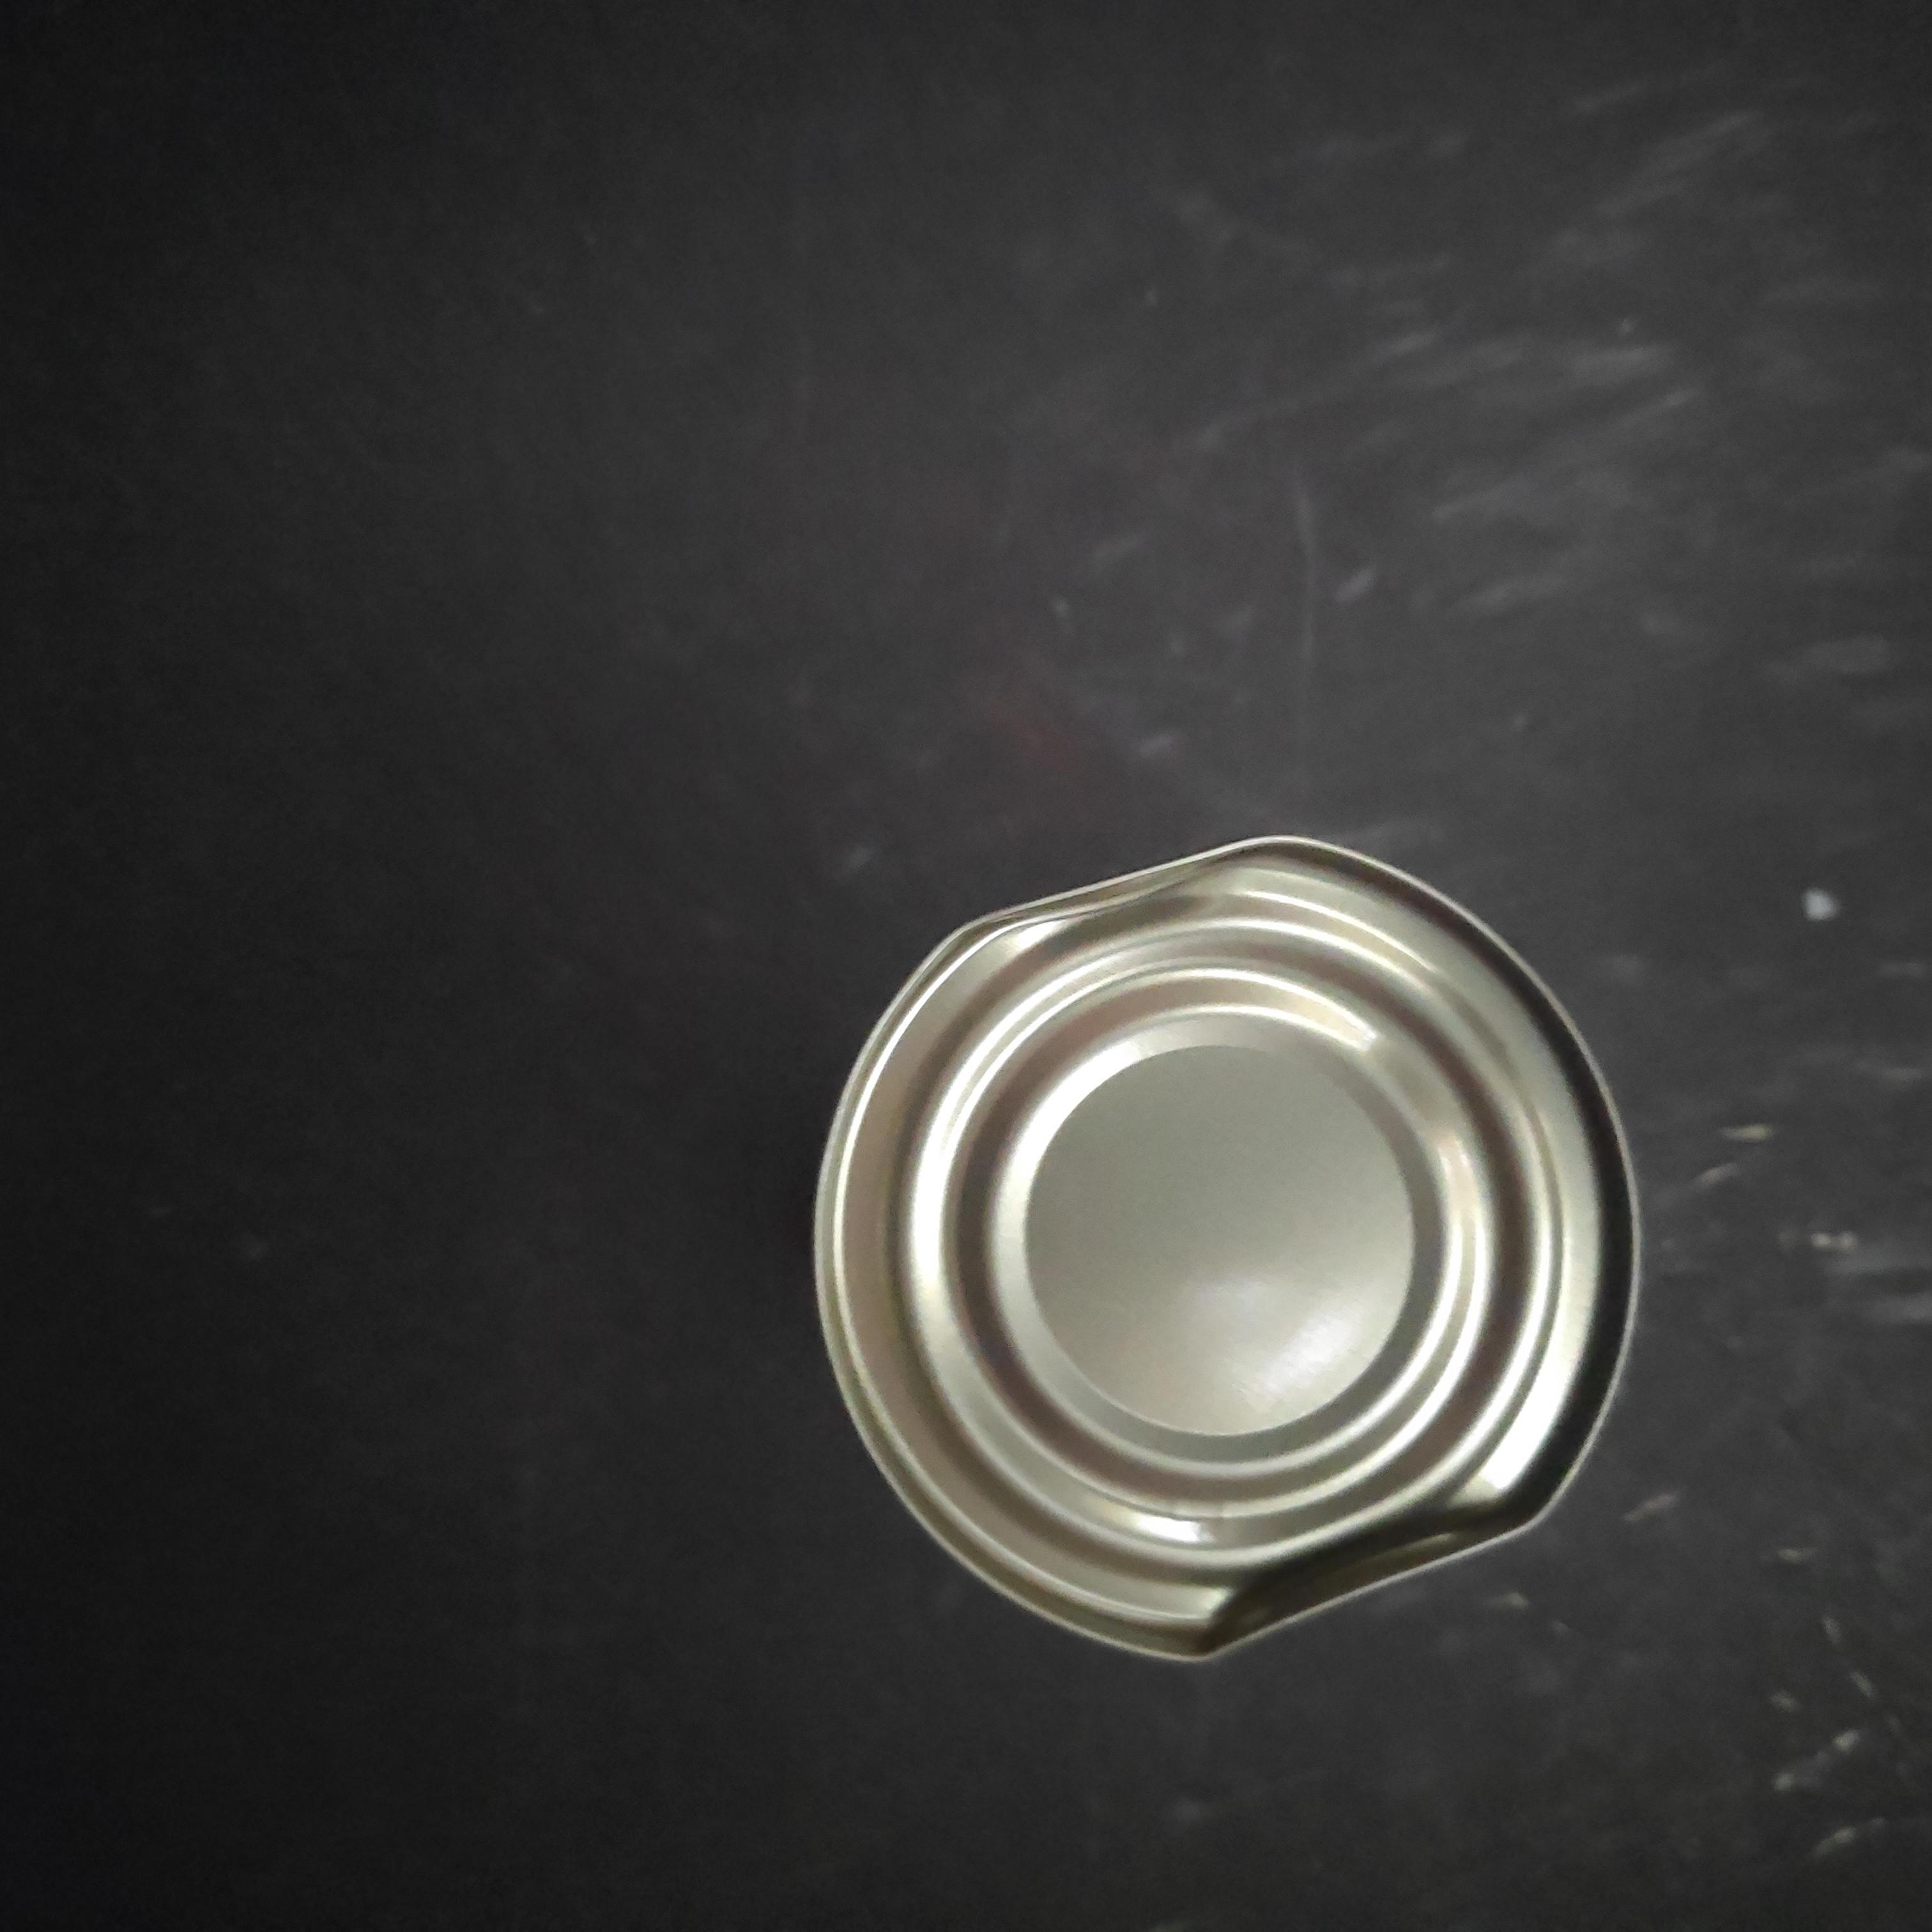Minor Defect: (791, 805, 1652, 1700)
